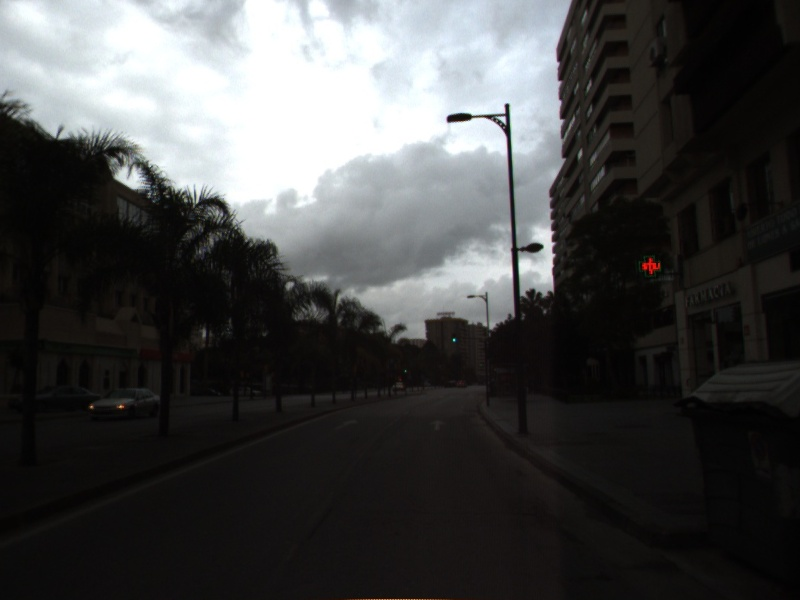STRAIGHT: (331, 417, 361, 433), (427, 417, 449, 433)
